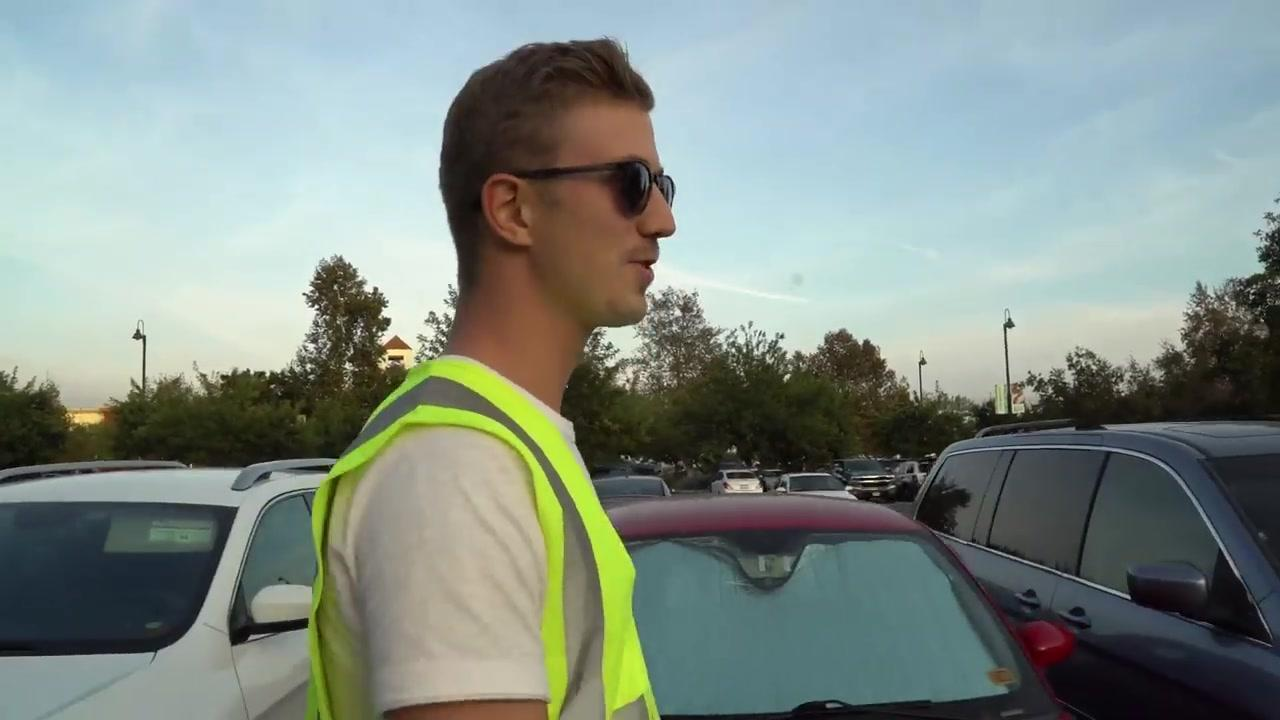vest: (301, 360, 662, 719)
